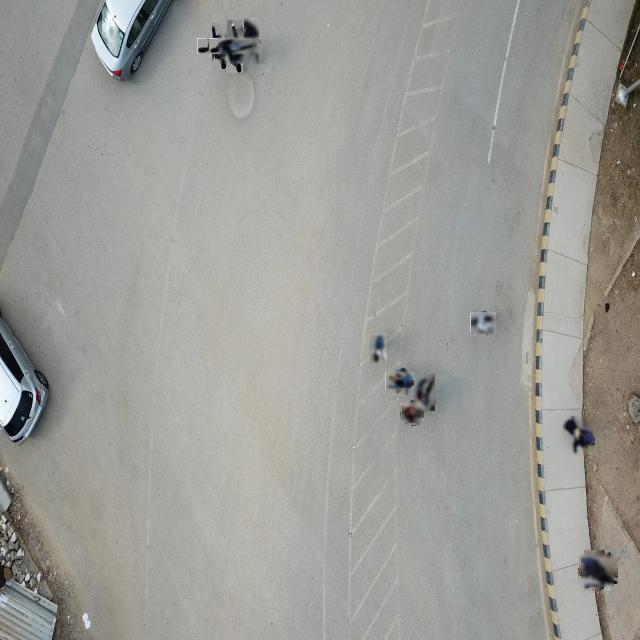Manusia: (563, 416, 595, 456), (218, 29, 253, 65), (581, 554, 615, 588), (204, 30, 237, 63), (414, 374, 436, 412), (244, 18, 260, 65), (389, 369, 413, 394), (471, 312, 496, 335), (370, 333, 388, 364), (402, 402, 423, 424)
